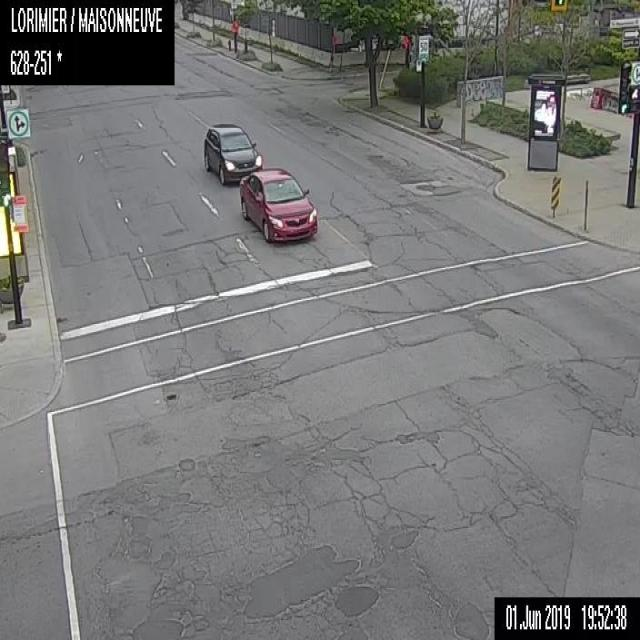vehicle: (239, 167, 317, 243), (203, 122, 261, 184)
